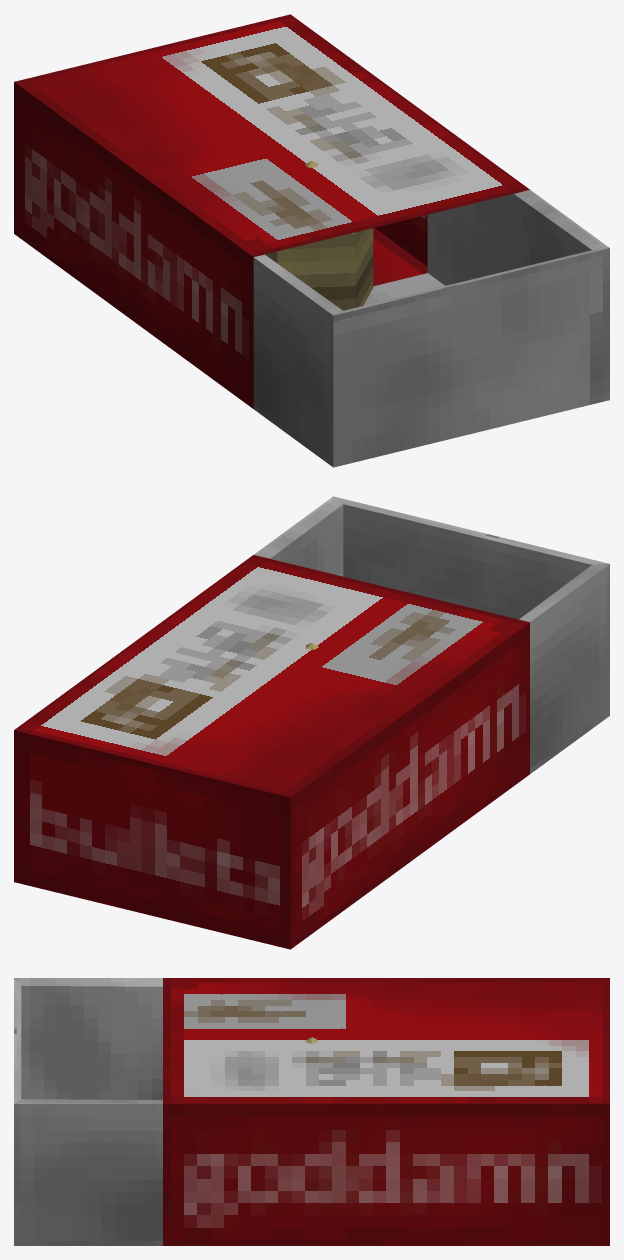
Rendered from revolverBullets.fbx.
The picture shows the model from 3 angles, top to bottom: view 1: azimuth 30°, elevation 25°; view 2: azimuth 150°, elevation 25°; view 3: azimuth 270°, elevation 25°; orthographic projection. The views are drawn at different scales.
Parts seen in each view (by area): view 1: revolverBullets, revolverBullets.001; view 2: revolverBullets; view 3: revolverBullets.
Boxes of the visible parts, x1=… form: revolverBullets: x1=14, y1=14, x2=609, y2=467; revolverBullets.001: x1=265, y1=161, x2=373, y2=310; revolverBullets: x1=14, y1=496, x2=609, y2=949; revolverBullets: x1=14, y1=978, x2=609, y2=1245.
Size of the model in its own units: 48 by 25.91 by 96.
1 material, 1 textured.
